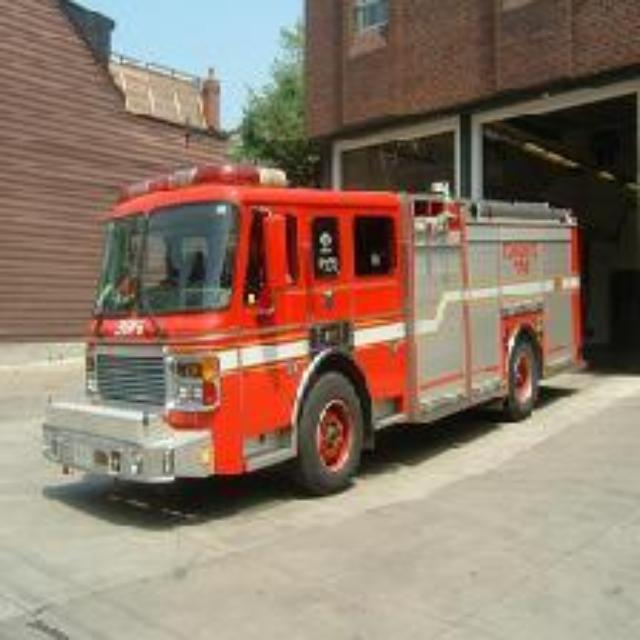emergency: (77, 164, 585, 482)
